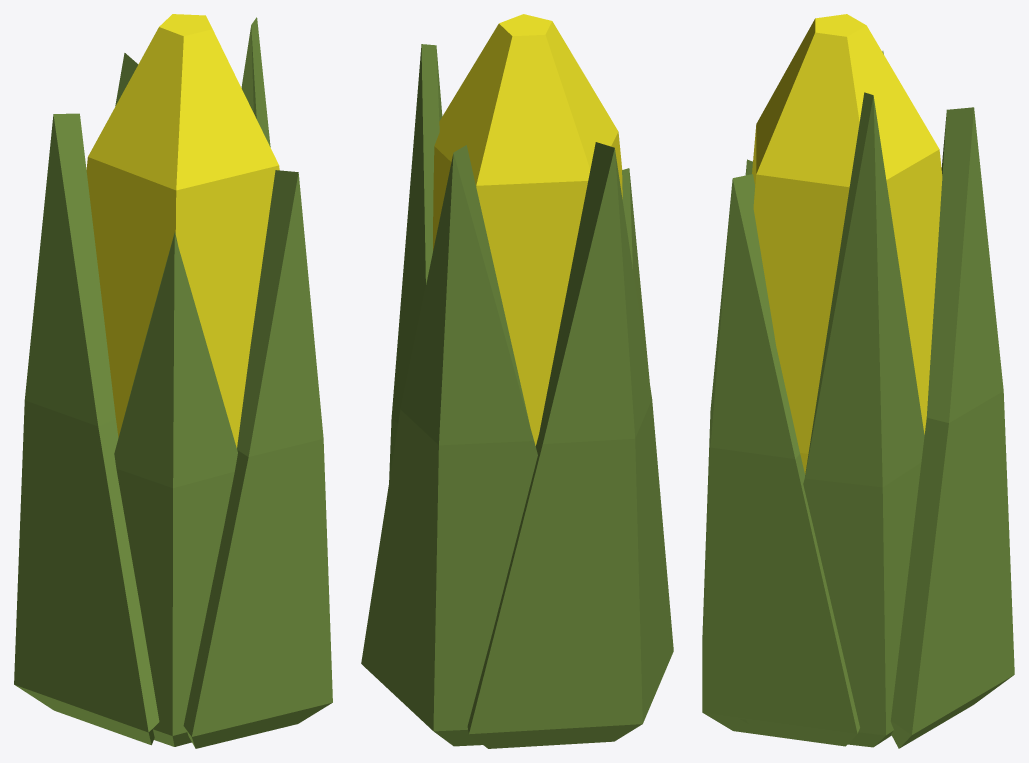
The model's file is Corn_01.fbx.
The picture shows the model from 3 angles, left to right: view 1: azimuth 30°, elevation 25°; view 2: azimuth 150°, elevation 25°; view 3: azimuth 270°, elevation 25°; orthographic projection.
Parts seen in each view (by area): view 1: Corn_01; view 2: Corn_01; view 3: Corn_01.
Boxes of the visible parts, x1,y1,x2,y2 form: Corn_01: [14, 14, 332, 748]; Corn_01: [361, 14, 673, 748]; Corn_01: [702, 14, 1014, 748].
Size of the model in its own units: 8.54 by 20.1 by 8.41.
